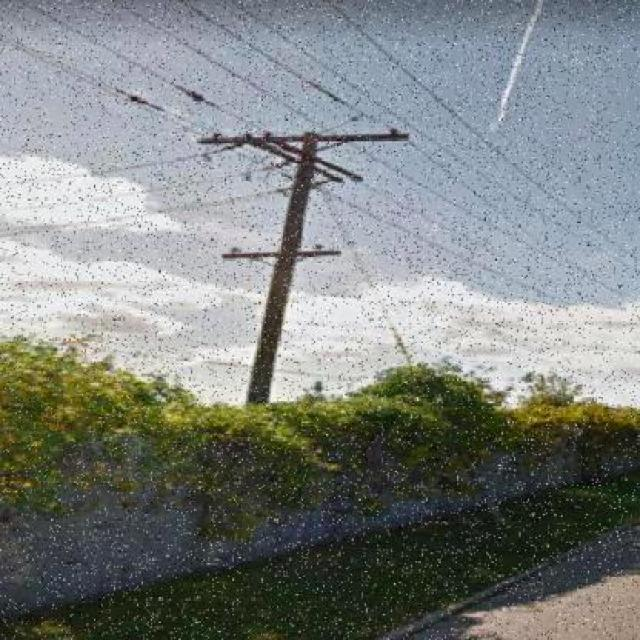crossarm: (198, 132, 409, 146), (222, 249, 342, 262)
pole: (248, 137, 326, 405)
wire: (112, 1, 640, 304), (324, 1, 640, 265), (6, 0, 273, 146)
